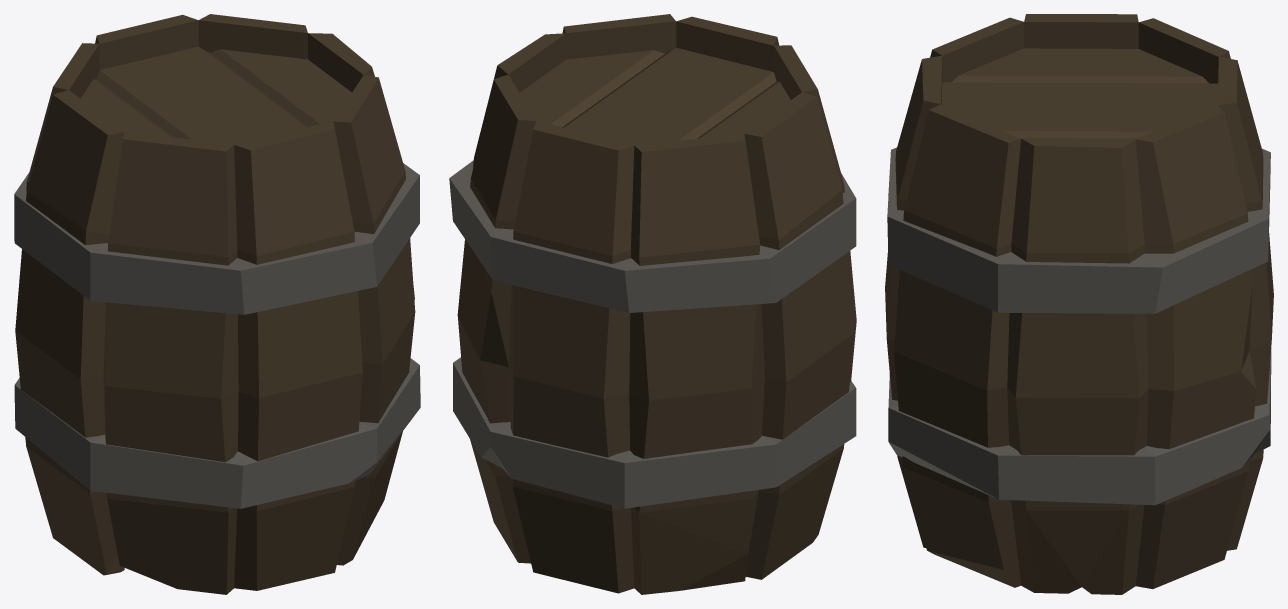
The model's file is barrel.glb.
3 renders of one model, left to right at view 1: azimuth 30°, elevation 25°; view 2: azimuth 150°, elevation 25°; view 3: azimuth 270°, elevation 25°, orthographic.
Parts seen in each view (by area): view 1: SM_Prop_Barrel_01; view 2: SM_Prop_Barrel_01; view 3: SM_Prop_Barrel_01.
Boxes of the visible parts, x1=… form: SM_Prop_Barrel_01: x1=14, y1=14, x2=420, y2=594; SM_Prop_Barrel_01: x1=449, y1=14, x2=856, y2=594; SM_Prop_Barrel_01: x1=885, y1=14, x2=1273, y2=594.
Size of the model in its own units: 0.7914 by 1 by 0.7913.
1 material, 1 textured.
